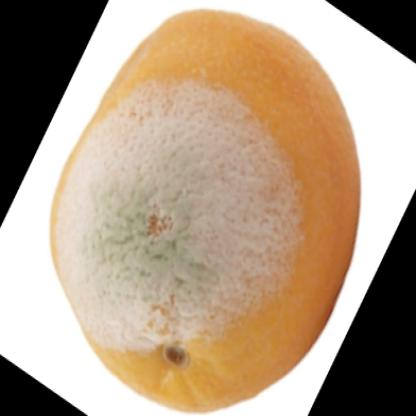rotten: (52, 7, 360, 416)
